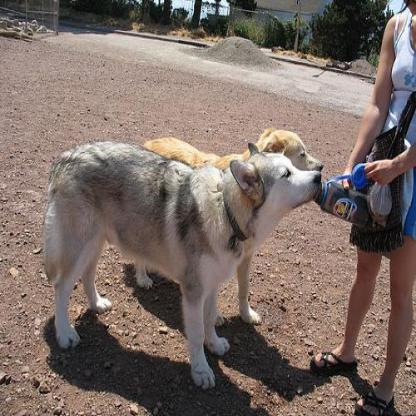malamute: (39, 136, 320, 394)
